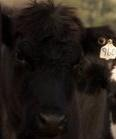muzzles: (34, 110, 67, 132)
